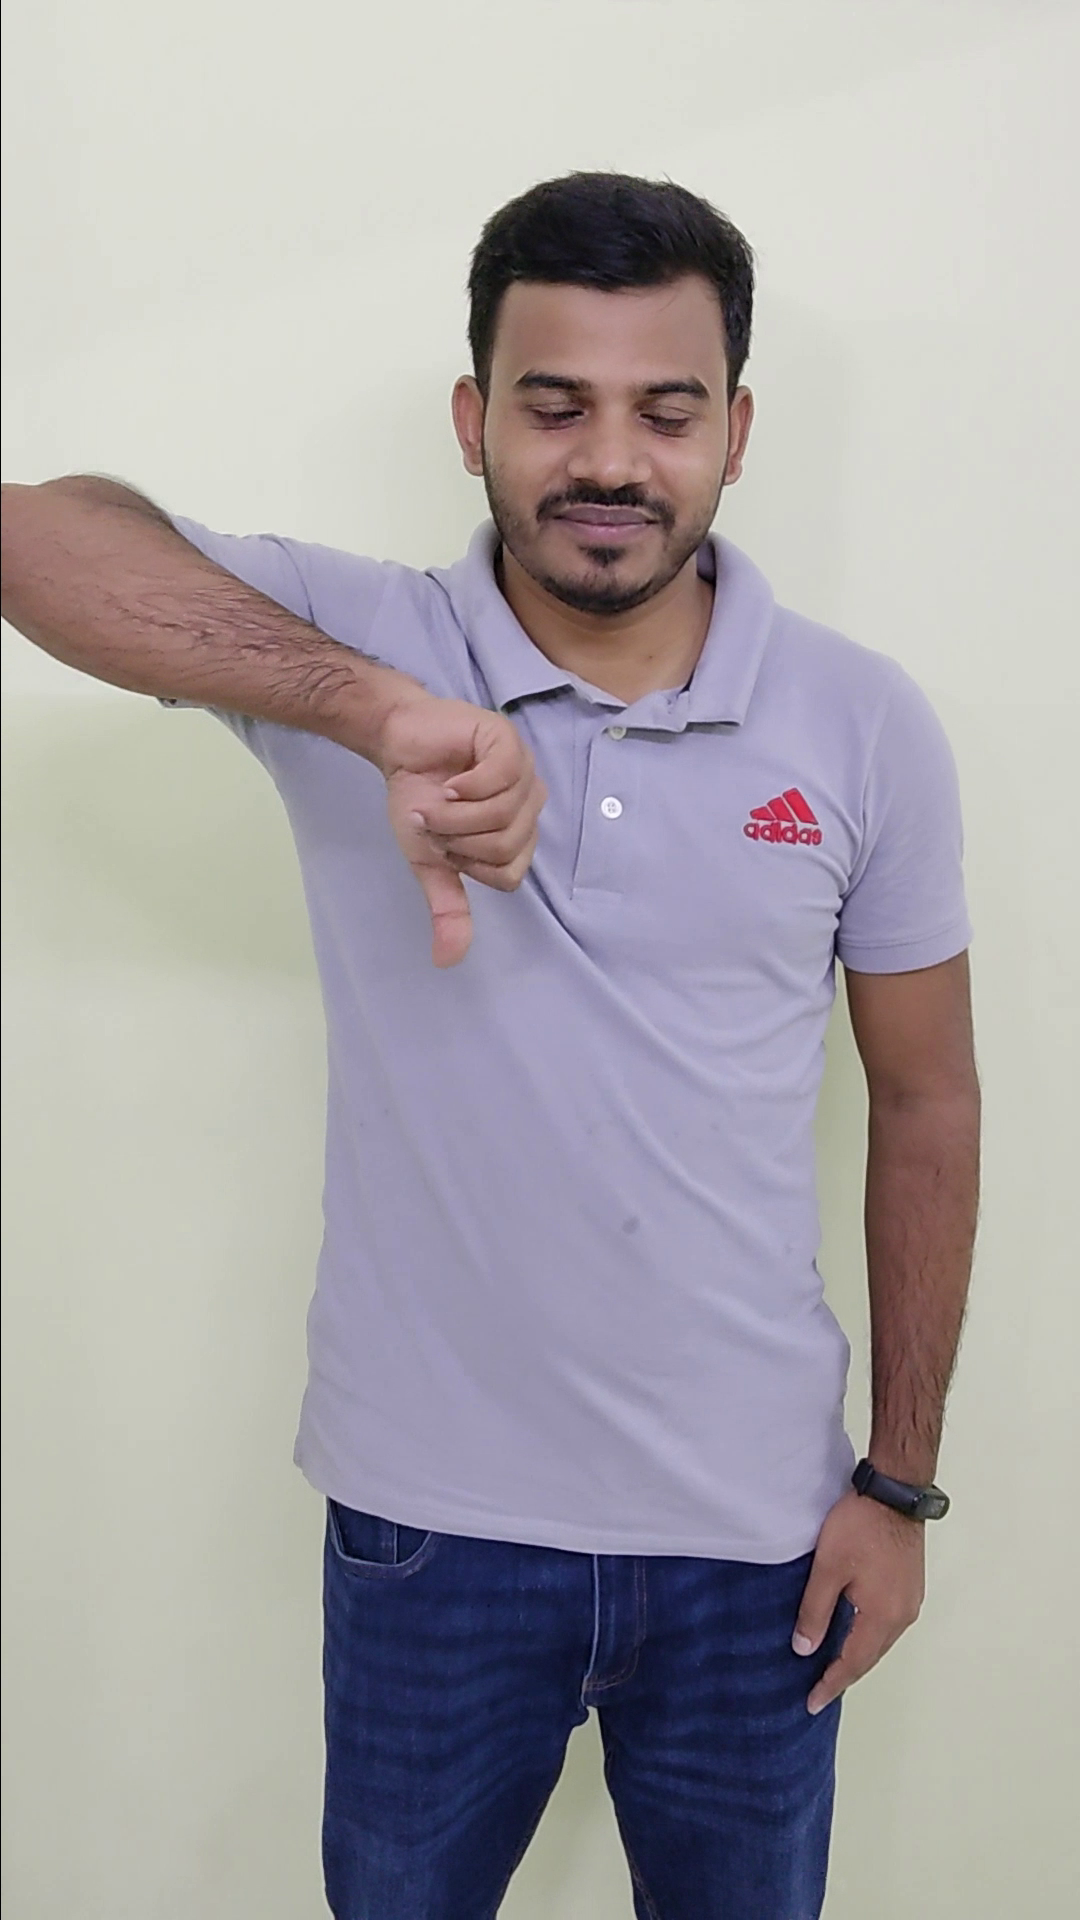Dislike: (359, 671, 553, 981)
None: (786, 1447, 957, 1727)
